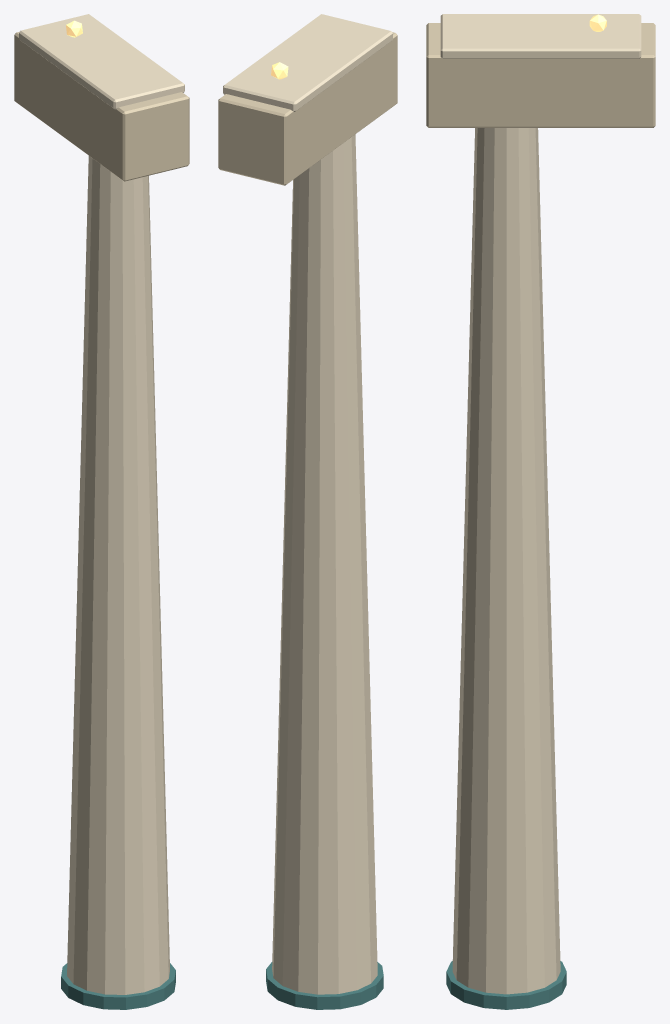
File: hsc3_wind_tower.glb
3 views of the same model, side by side, from view 1: azimuth 30°, elevation 25°; view 2: azimuth 150°, elevation 25°; view 3: azimuth 270°, elevation 25° (orthographic). The views are drawn at different scales.
Visible parts, largest first — view 1: hsc3_wind_tower__hsc3-pale-trim, hsc3_wind_tower__hsc3-cream-enamel, hsc3_wind_tower__hsc3-deep-teal; view 2: hsc3_wind_tower__hsc3-pale-trim, hsc3_wind_tower__hsc3-cream-enamel, hsc3_wind_tower__hsc3-deep-teal; view 3: hsc3_wind_tower__hsc3-pale-trim, hsc3_wind_tower__hsc3-cream-enamel, hsc3_wind_tower__hsc3-deep-teal.
Boxes of the visible parts, box(x1,y1,x2,y2) form: hsc3_wind_tower__hsc3-pale-trim: box(19, 14, 184, 994); hsc3_wind_tower__hsc3-cream-enamel: box(14, 31, 189, 181); hsc3_wind_tower__hsc3-deep-teal: box(61, 963, 175, 1009); hsc3_wind_tower__hsc3-pale-trim: box(223, 14, 392, 994); hsc3_wind_tower__hsc3-cream-enamel: box(218, 32, 397, 185); hsc3_wind_tower__hsc3-deep-teal: box(266, 962, 383, 1009); hsc3_wind_tower__hsc3-pale-trim: box(440, 14, 641, 994); hsc3_wind_tower__hsc3-cream-enamel: box(426, 23, 655, 127); hsc3_wind_tower__hsc3-deep-teal: box(446, 961, 566, 1009).
Size of the model in its own units: 4.2 by 37.35 by 8.
